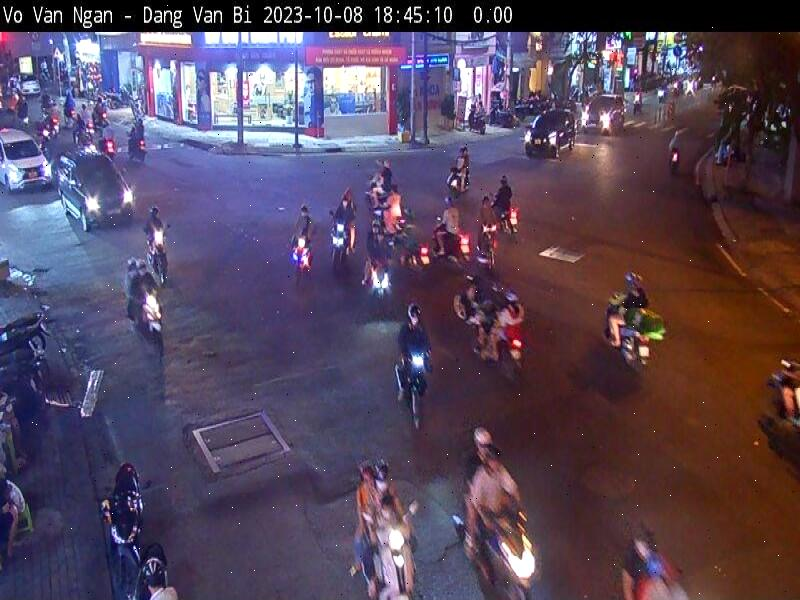car: (56, 149, 135, 237), (522, 104, 578, 163), (0, 128, 54, 187), (582, 94, 630, 136)
motorcycle: (103, 458, 146, 591), (480, 510, 540, 600), (366, 514, 418, 600), (396, 339, 430, 428), (136, 287, 170, 360), (136, 537, 167, 600), (368, 259, 396, 311), (289, 233, 313, 287)
